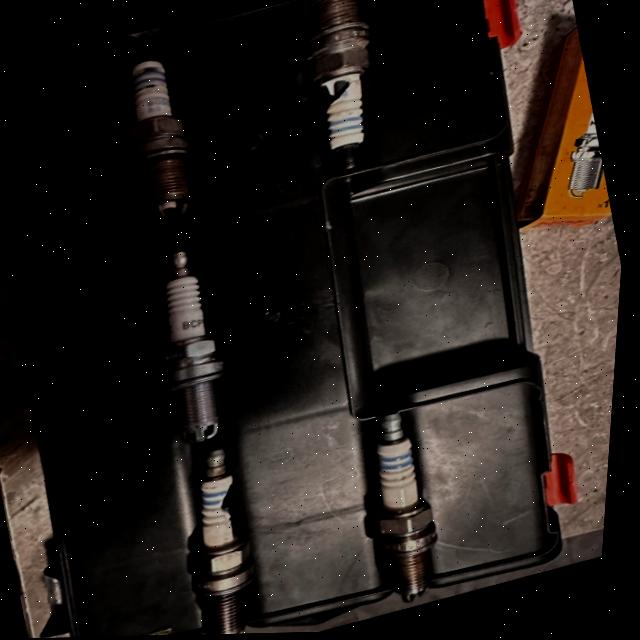damaged_spark-plug: (167, 442, 294, 636), (281, 0, 412, 184)
spark-plug: (350, 393, 481, 612), (94, 27, 226, 238), (131, 247, 248, 453)
